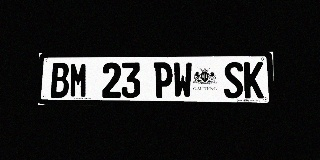2: (102, 62, 121, 98)
3: (121, 62, 140, 98)
B: (51, 63, 69, 98)
K: (244, 62, 264, 98)
M: (69, 63, 88, 98)
P: (154, 62, 173, 98)
S: (224, 62, 243, 98)
W: (173, 62, 192, 98)
